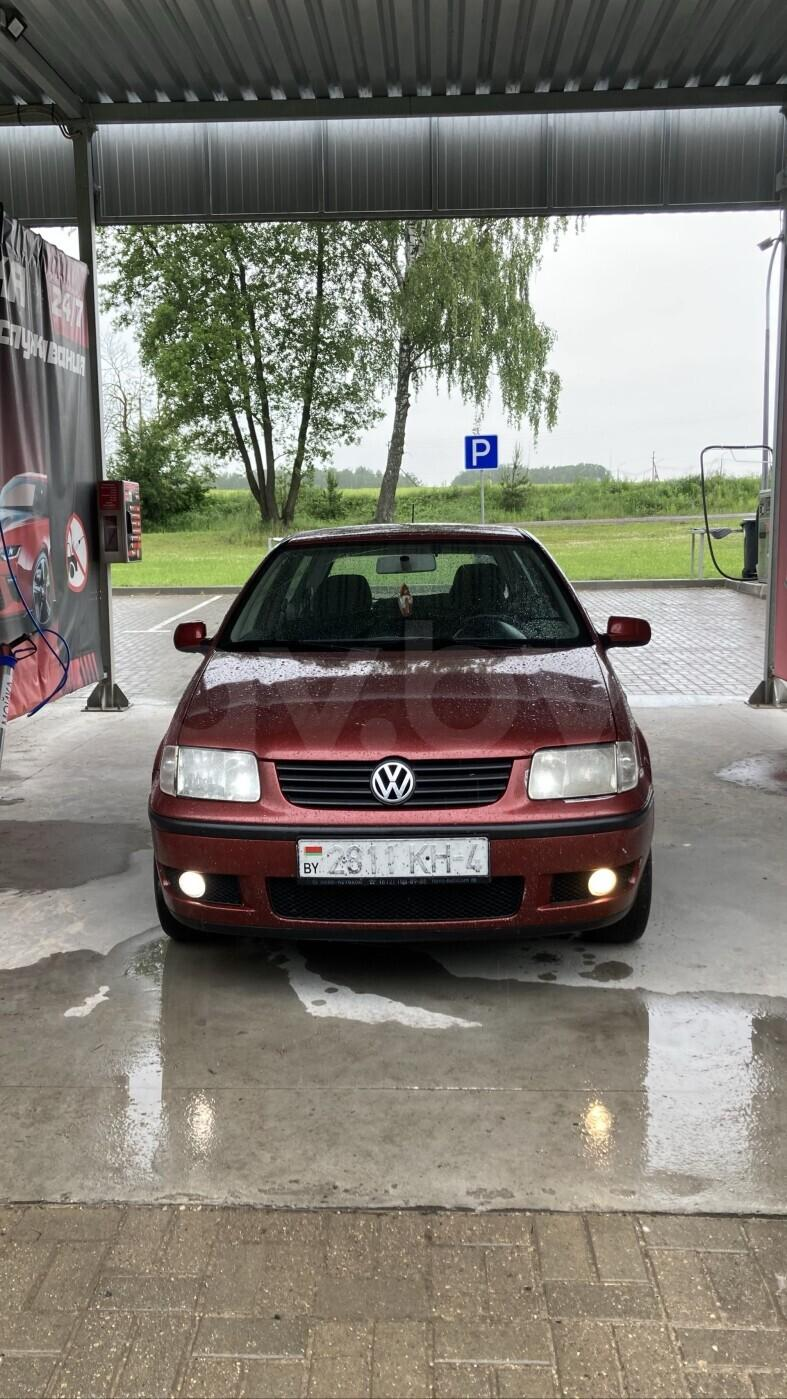Polo_2000-2002: (145, 516, 668, 978)
